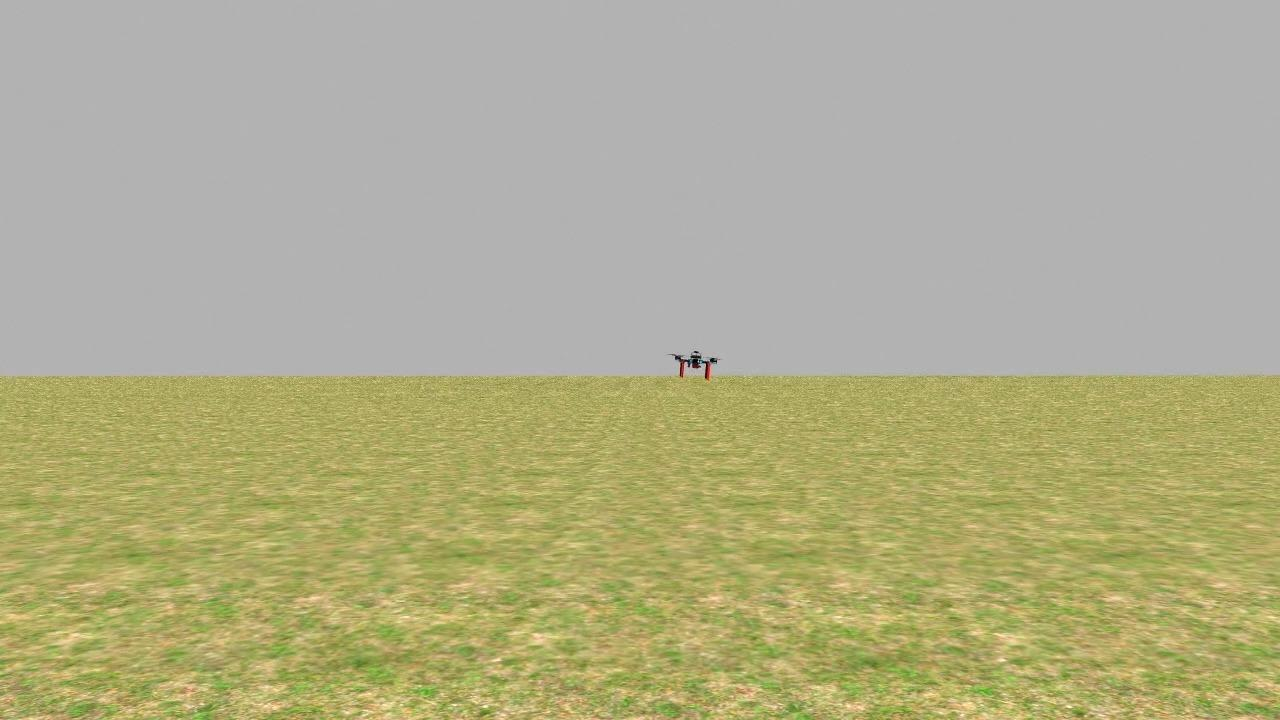UAV: (659, 340, 734, 387)
